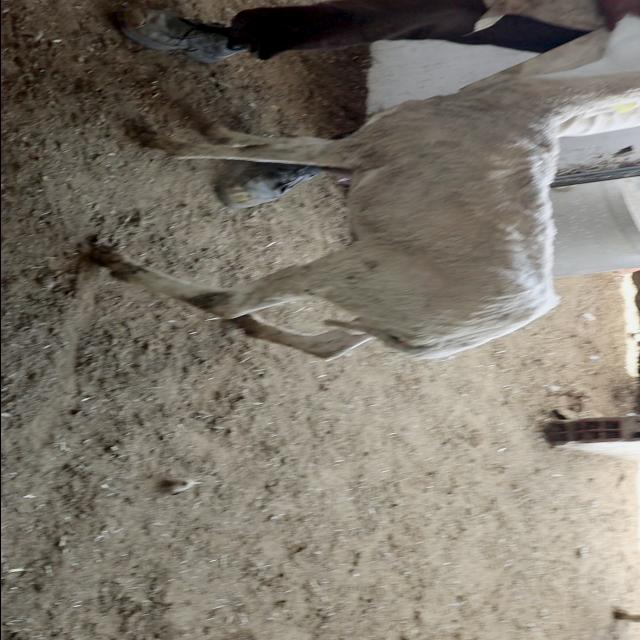Score_1: (92, 15, 640, 360)
